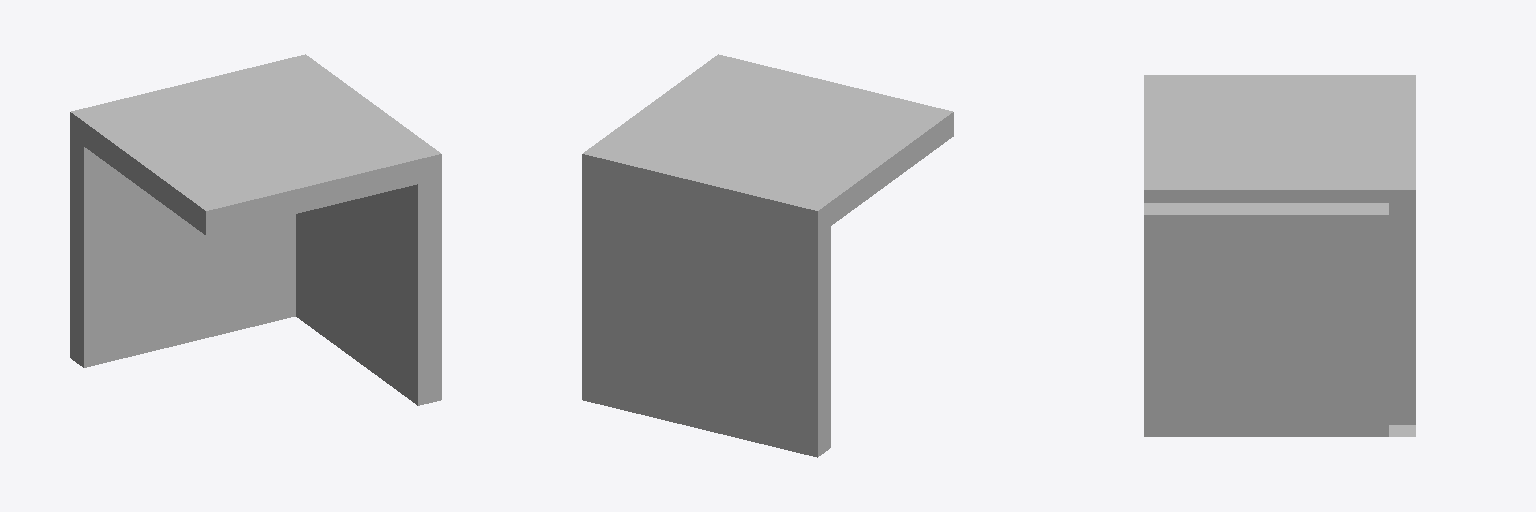
The model's file is tiles_ceiling_corner_east.obj.
3 views of the same model, side by side, from view 1: azimuth 30°, elevation 25°; view 2: azimuth 150°, elevation 25°; view 3: azimuth 270°, elevation 25° (orthographic).
Parts seen in each view (by area): view 1: Wall_Corner_Roof_East_Cube.013; view 2: Wall_Corner_Roof_East_Cube.013; view 3: Wall_Corner_Roof_East_Cube.013.
Part boxes in pixels (x1,y1,x2,y2): Wall_Corner_Roof_East_Cube.013: (70, 54, 441, 405); Wall_Corner_Roof_East_Cube.013: (582, 54, 953, 457); Wall_Corner_Roof_East_Cube.013: (1144, 75, 1415, 436).
Size of the model in its own units: 2 by 2 by 2.